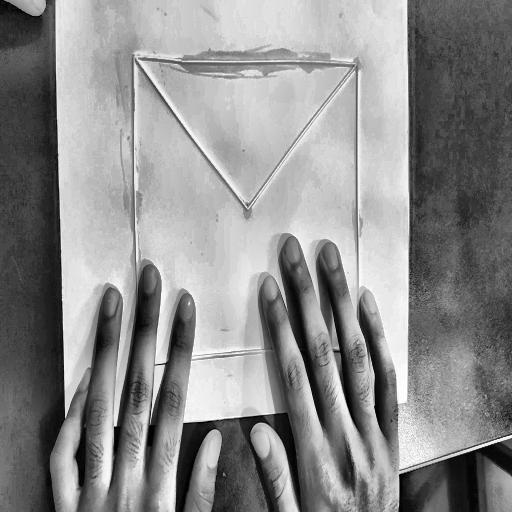bottom_left: (64, 417, 70, 427)
bottom_right: (404, 396, 410, 406)
envelop: (127, 46, 370, 374)
